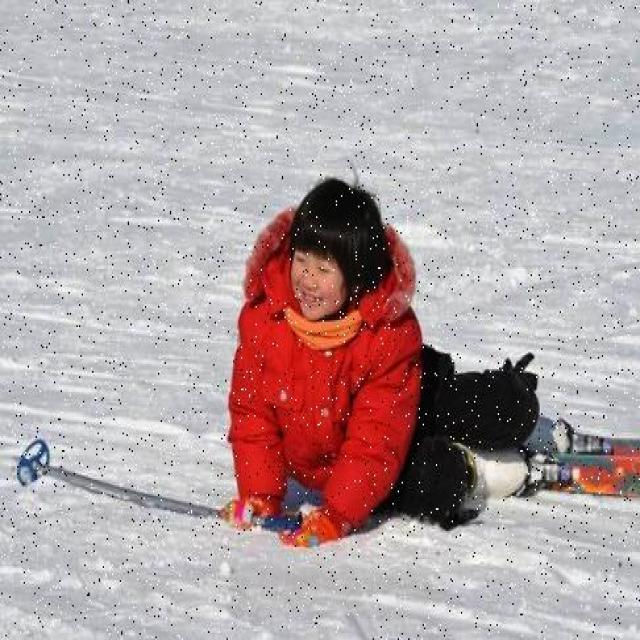fall: (213, 190, 593, 526)
